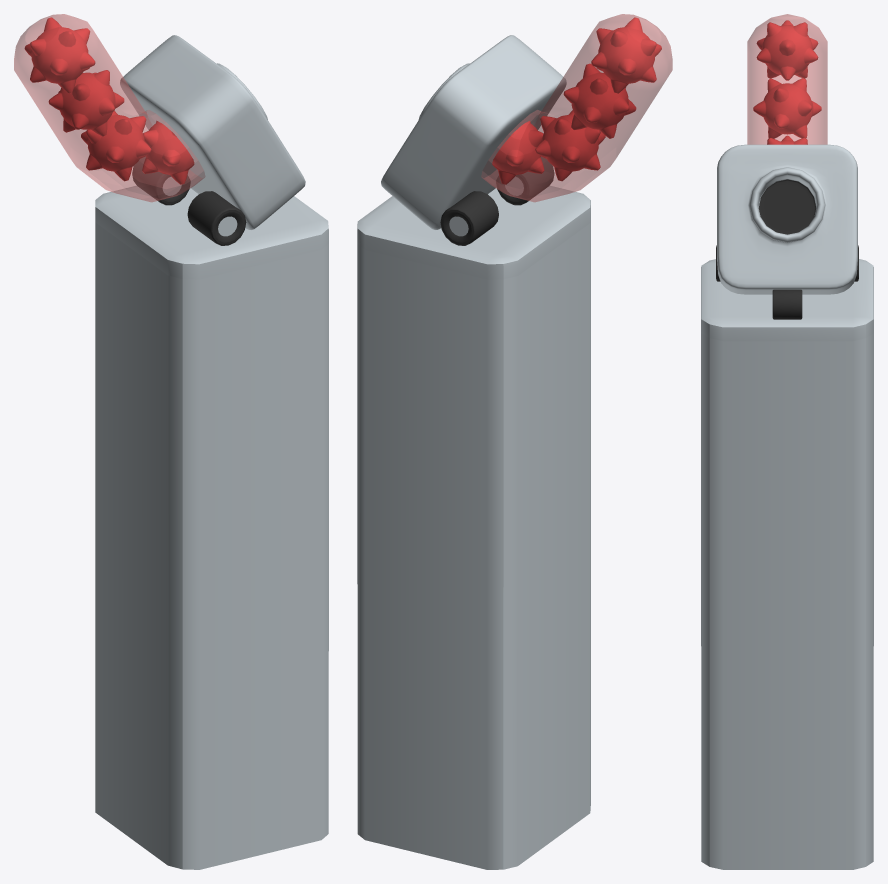
File: DispenserAssets.fbx
3 renders of one model, left to right at view 1: azimuth 30°, elevation 25°; view 2: azimuth 150°, elevation 25°; view 3: azimuth 270°, elevation 25°, orthographic. The views are drawn at different scales.
Parts seen in each view (by area): view 1: PlatformSmall_Long, Tube, Dispenser, PlatformSmall, SpikedBall4, SpikedBall3, SpikedBall2, Wheel2, SpikedBall1, Wheel1; view 2: PlatformSmall_Long, Tube, Dispenser, PlatformSmall, SpikedBall4, SpikedBall3, SpikedBall2, Wheel1, SpikedBall1, Wheel2; view 3: PlatformSmall_Long, Dispenser, Tube, PlatformSmall, SpikedBall4, SpikedBall3, Wheel3.
Boxes of the visible parts, x1,y1,x2,y2 form: PlatformSmall_Long: (95,222,328,869); Tube: (14,14,205,202); Dispenser: (120,35,305,229); PlatformSmall: (95,185,328,279); SpikedBall4: (24,17,95,93); SpikedBall3: (48,70,124,136); SpikedBall2: (81,111,151,181); Wheel2: (187,191,246,245); SpikedBall1: (142,120,194,184); Wheel1: (132,156,190,205); PlatformSmall_Long: (357,219,590,869); Tube: (481,14,672,202); Dispenser: (381,35,566,229); PlatformSmall: (357,185,590,279); SpikedBall4: (591,17,661,93); SpikedBall3: (563,63,636,138); SpikedBall2: (535,110,605,181); Wheel1: (440,191,498,245); SpikedBall1: (492,121,544,184); Wheel2: (496,156,554,205); PlatformSmall_Long: (701,333,873,869); Dispenser: (717,144,857,294); Tube: (747,14,827,144); PlatformSmall: (701,259,873,341); SpikedBall4: (756,20,818,80); SpikedBall3: (753,78,821,138); Wheel3: (772,289,802,319).
Size of the model in its own units: 133 by 391 by 81.51.
